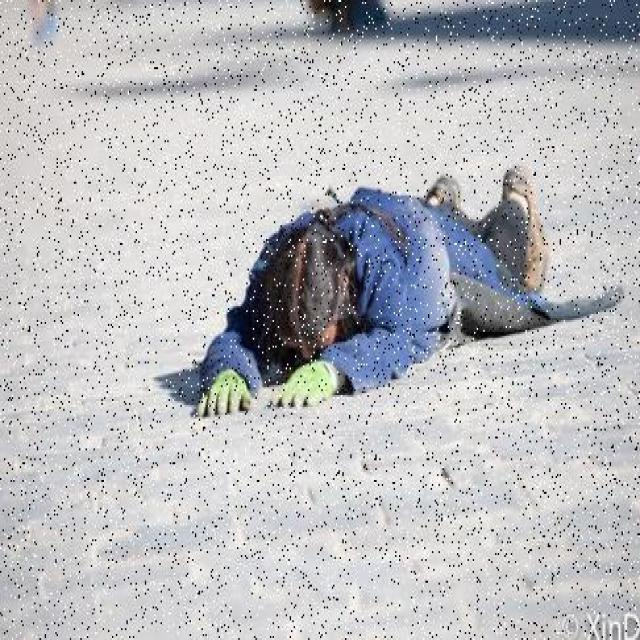fall: (212, 150, 550, 417)
